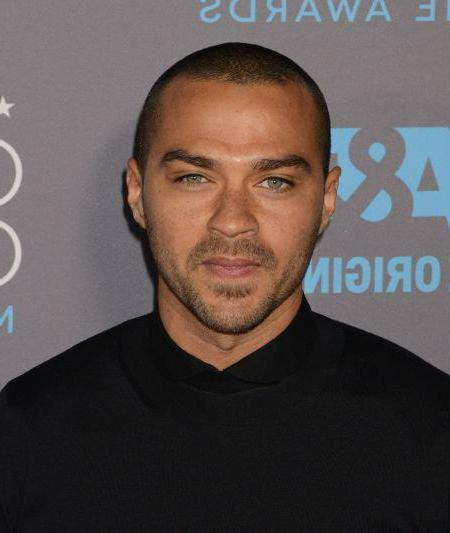Sober: (157, 92, 317, 316)
